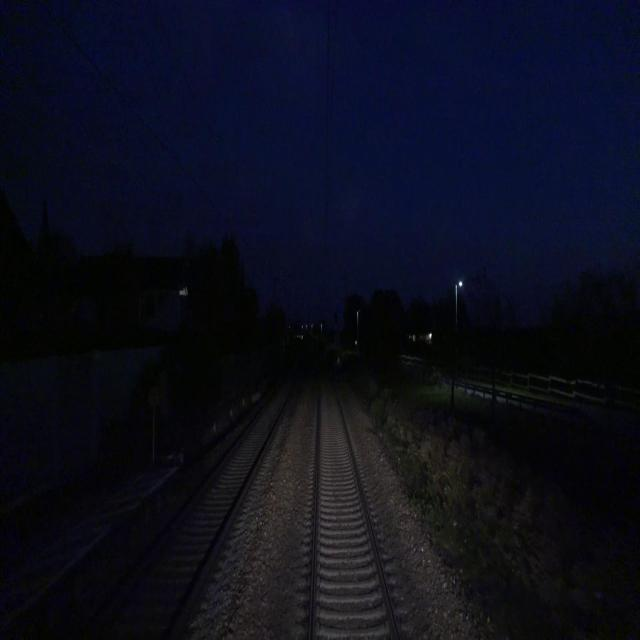rail-track: (85, 382, 290, 639), (314, 386, 395, 639)
